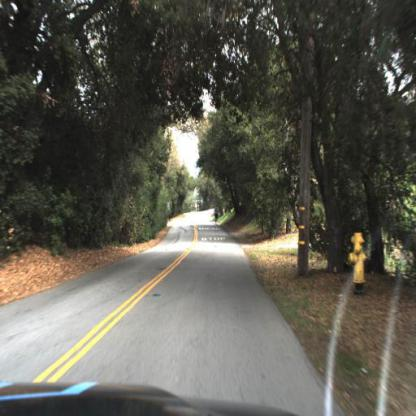pedestrian: (212, 204, 220, 228)
